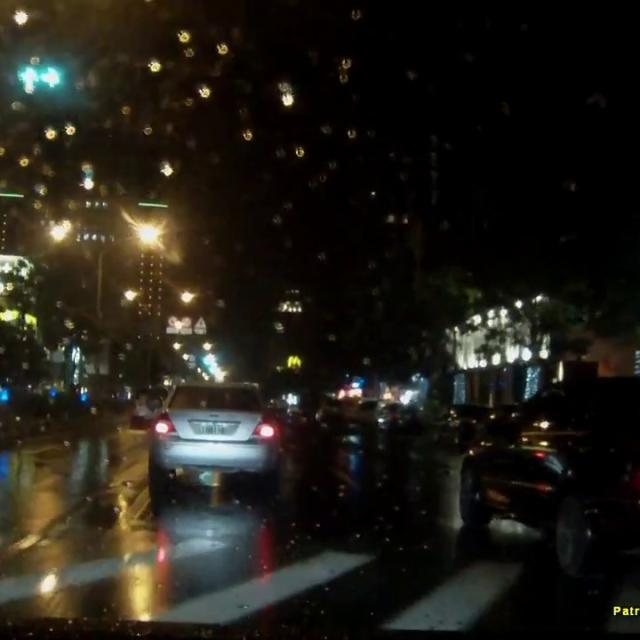Car: (455, 373, 639, 583), (146, 378, 281, 498), (341, 395, 408, 433), (127, 384, 169, 425)
